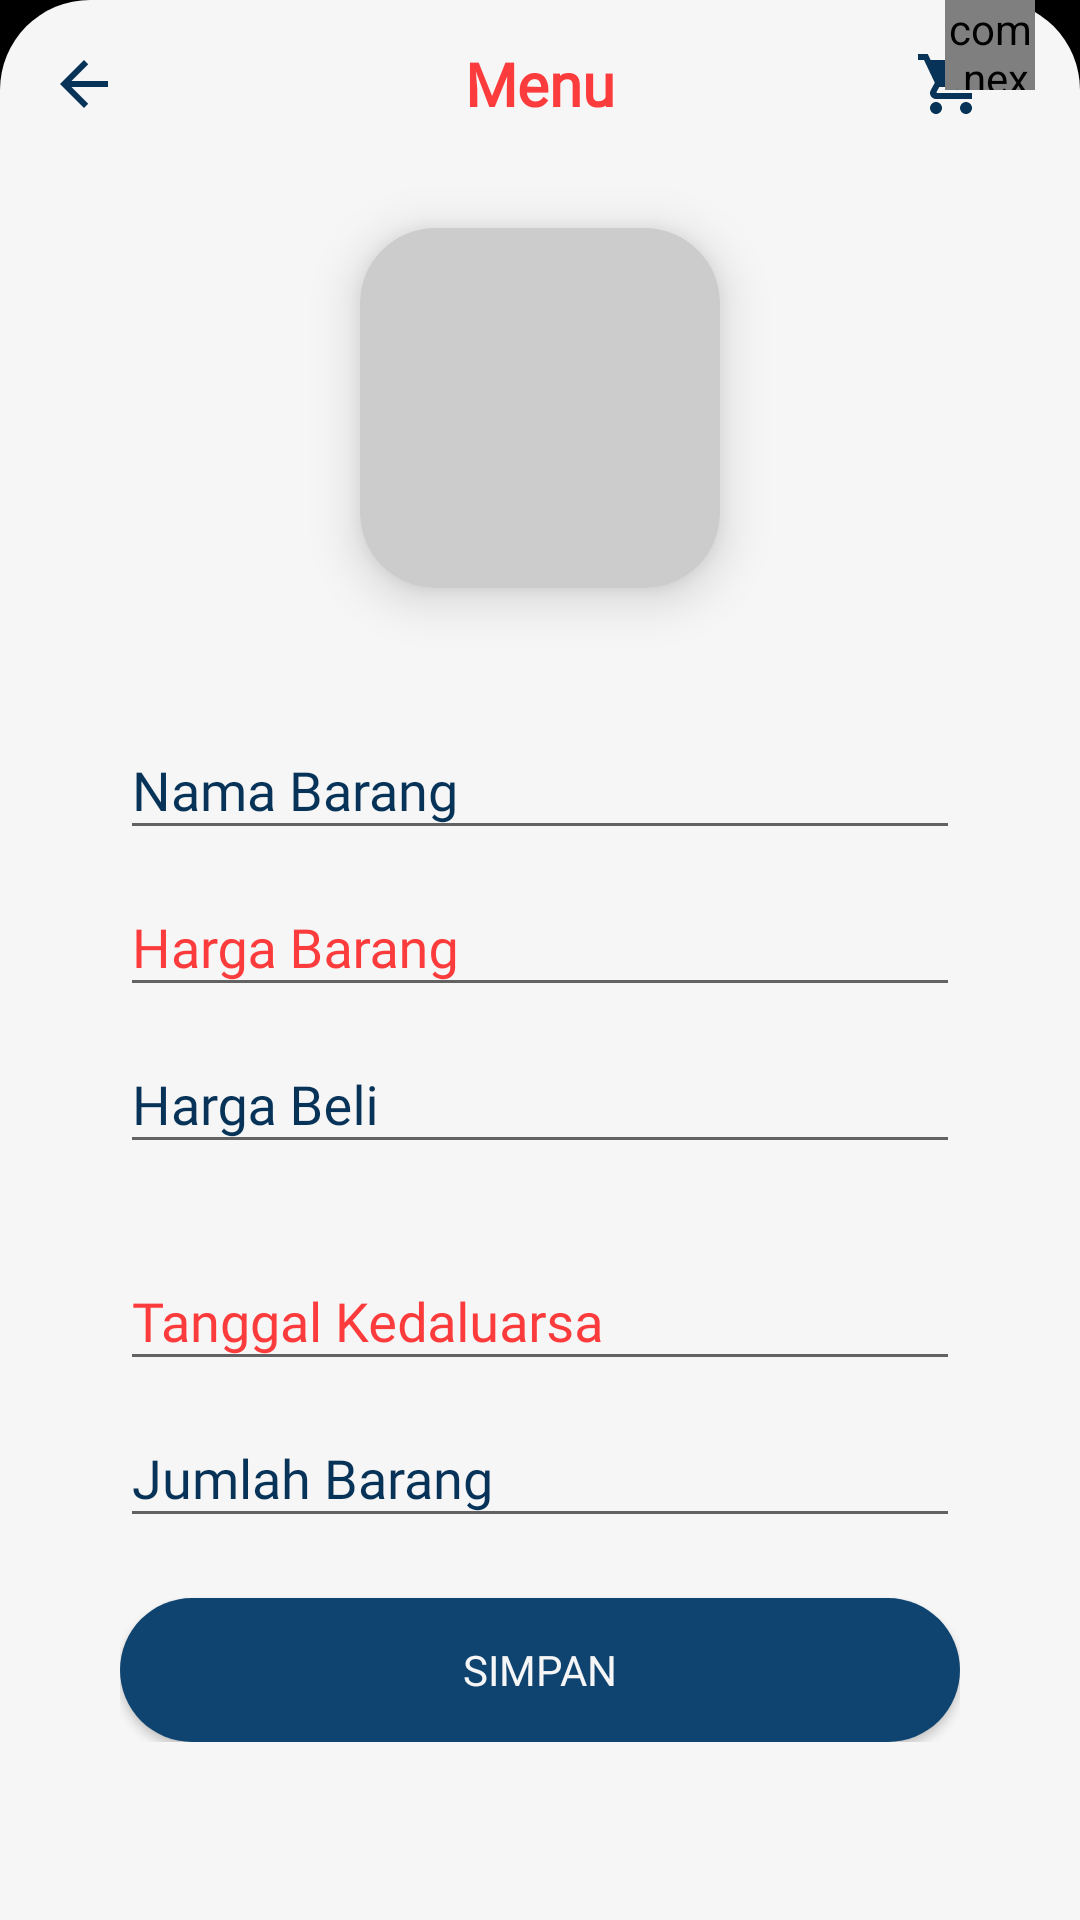

Locate icon controls on the screen. Image size 1080x1920, boxes as bbox=(x1, y1, x2, y2).
kembali biru: bbox=(60, 60, 108, 108)
